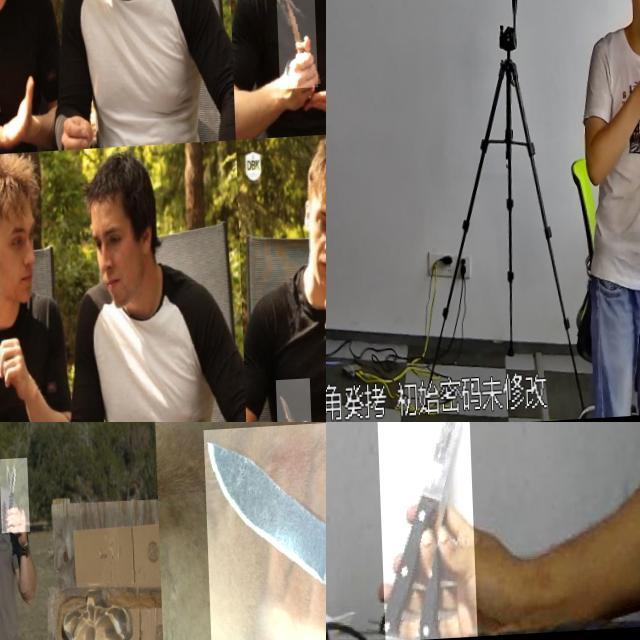-: (200, 425, 326, 640), (371, 422, 472, 640), (274, 0, 315, 93), (0, 27, 24, 114), (0, 460, 26, 535), (271, 382, 308, 422), (0, 422, 29, 451), (297, 422, 321, 454)
